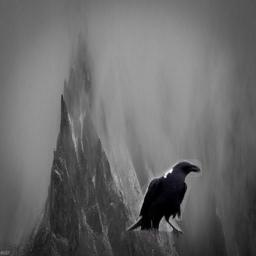Crow: (125, 159, 202, 247)
